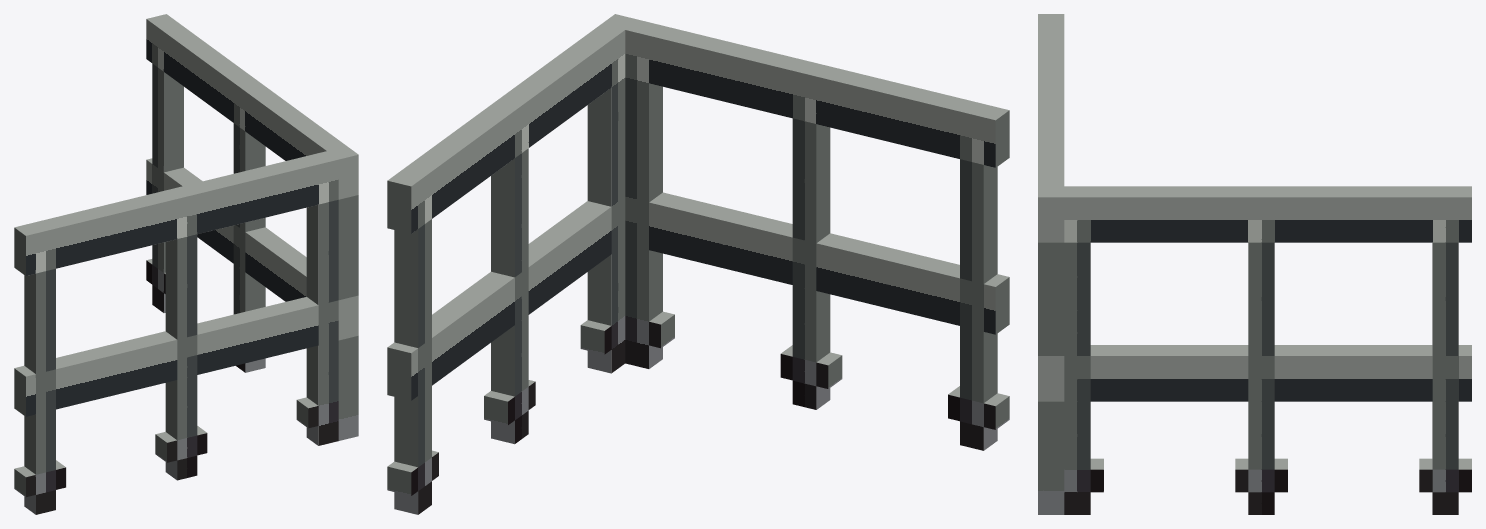
Rendered from railing_corner.glb.
The picture shows the model from 3 angles, left to right: view 1: azimuth 30°, elevation 25°; view 2: azimuth 150°, elevation 25°; view 3: azimuth 270°, elevation 25°; orthographic projection. The views are drawn at different scales.
Visible parts, largest first — view 1: Continuous_Railing; view 2: Continuous_Railing; view 3: Continuous_Railing.
Part boxes in pixels (<box>): Continuous_Railing: <box>14,14,358,514</box>; Continuous_Railing: <box>387,14,1009,514</box>; Continuous_Railing: <box>1038,14,1471,514</box>.
Size of the model in its own units: 0.9281 by 0.75 by 0.9281.
1 material, 1 textured.
